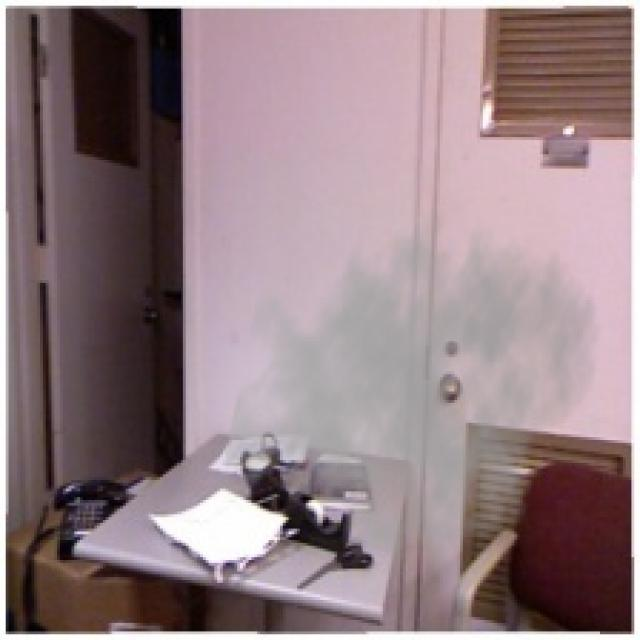smoke: (220, 189, 603, 580)
